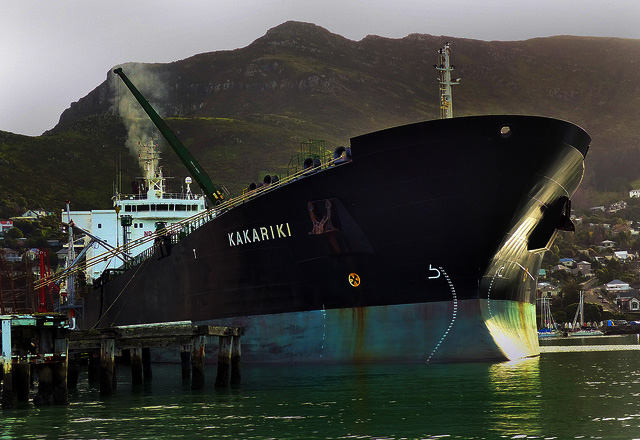tanker: (62, 44, 594, 366)
